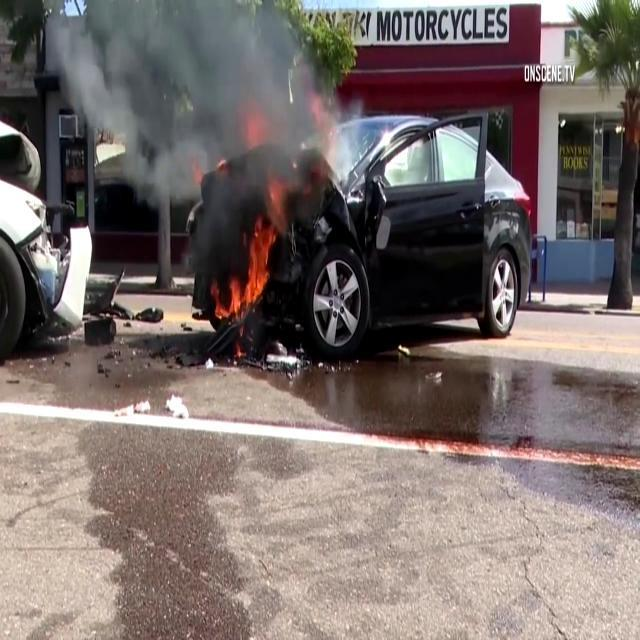Fire: (214, 199, 282, 321)
Smoke: (51, 0, 345, 215)
